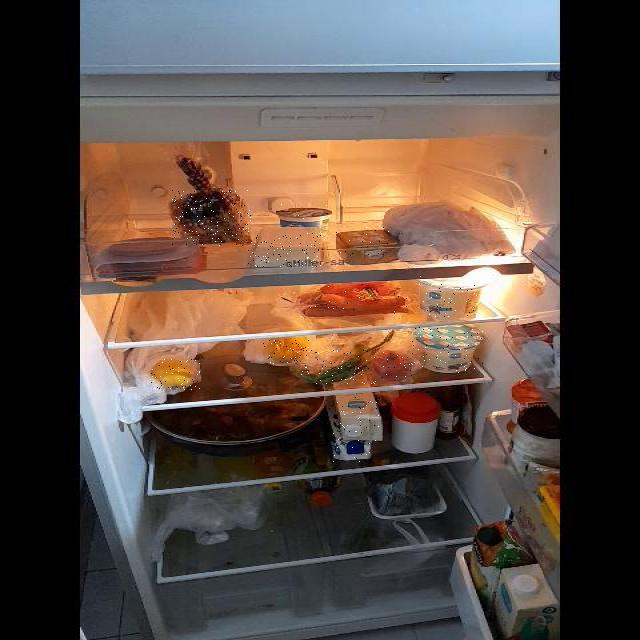bread: (172, 190, 251, 246)
butter: (336, 227, 399, 259)
carrots: (307, 283, 409, 314)
cheese: (248, 233, 325, 267)
green chilies: (302, 350, 378, 384)
lemon: (151, 359, 200, 390), (263, 340, 313, 365)
milk: (328, 397, 381, 462)
tomato: (374, 352, 414, 378)
yoghurt: (412, 327, 484, 373), (417, 276, 487, 318), (276, 203, 332, 229)
